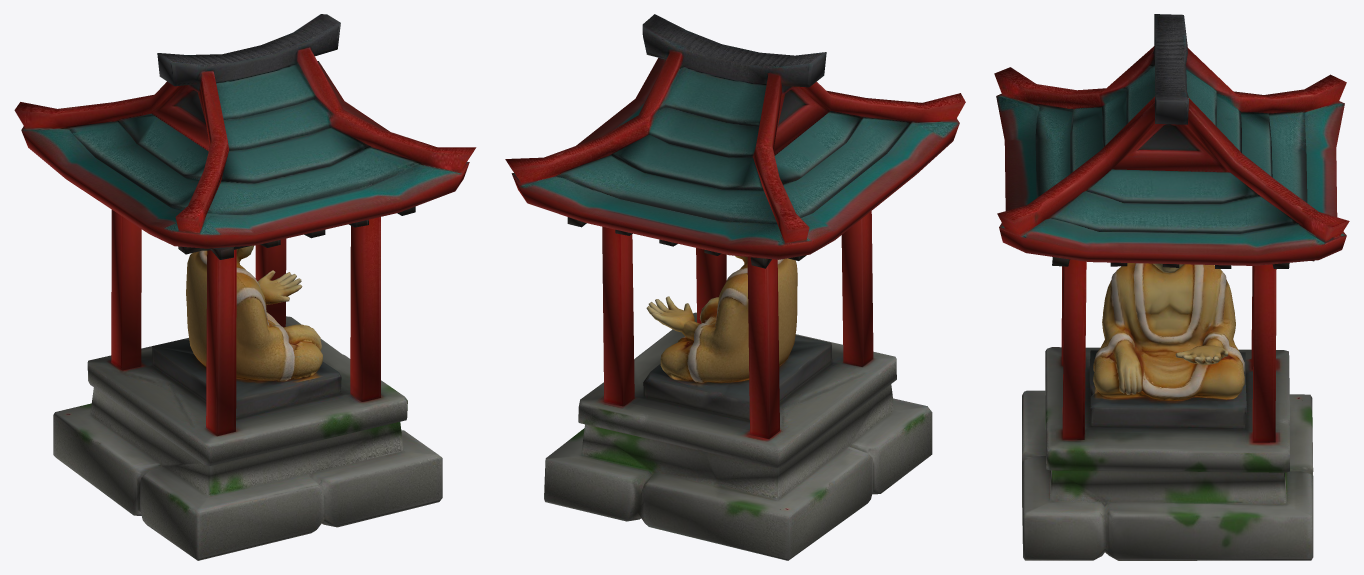
Rendered from tripo_convert_9048f280-9fb3-44eb-a1ea-5497fcdb8295.fbx.
The picture shows the model from 3 angles, left to right: view 1: azimuth 30°, elevation 25°; view 2: azimuth 150°, elevation 25°; view 3: azimuth 270°, elevation 25°; orthographic projection.
Visible parts, largest first — view 1: tripo_node_9048f280; view 2: tripo_node_9048f280; view 3: tripo_node_9048f280.
Part boxes in pixels (box(x1,y1,x2,y2)): tripo_node_9048f280: box(14, 14, 476, 560); tripo_node_9048f280: box(505, 14, 965, 560); tripo_node_9048f280: box(994, 14, 1349, 560).
Size of the model in its own units: 0.7207 by 0.998 by 0.7207.
1 material, 1 textured.
